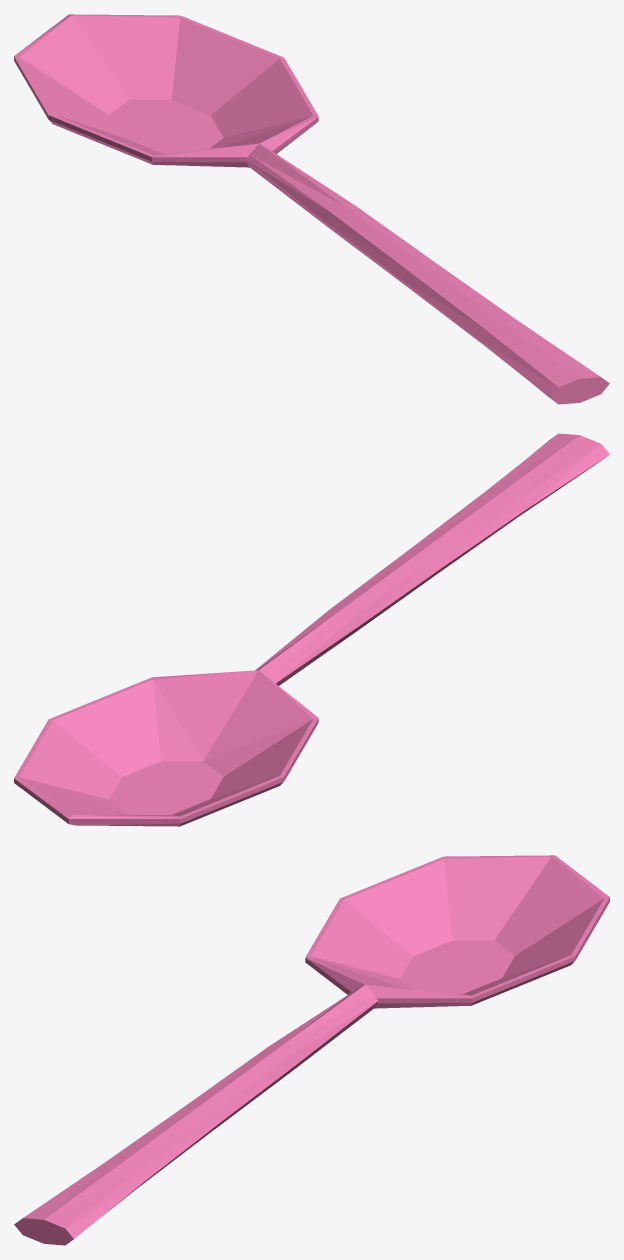
The model's file is Spoon_01.fbx.
3 renders of one model, top to bottom at view 1: azimuth 30°, elevation 25°; view 2: azimuth 150°, elevation 25°; view 3: azimuth 330°, elevation 25°, orthographic.
Parts seen in each view (by area): view 1: Spoon_01; view 2: Spoon_01; view 3: Spoon_01.
Boxes of the visible parts, x1,y1,x2,y2 form: Spoon_01: (14, 14, 609, 404); Spoon_01: (14, 433, 609, 826); Spoon_01: (14, 855, 609, 1245).
Size of the model in its own units: 6.6 by 1.47 by 24.79.
